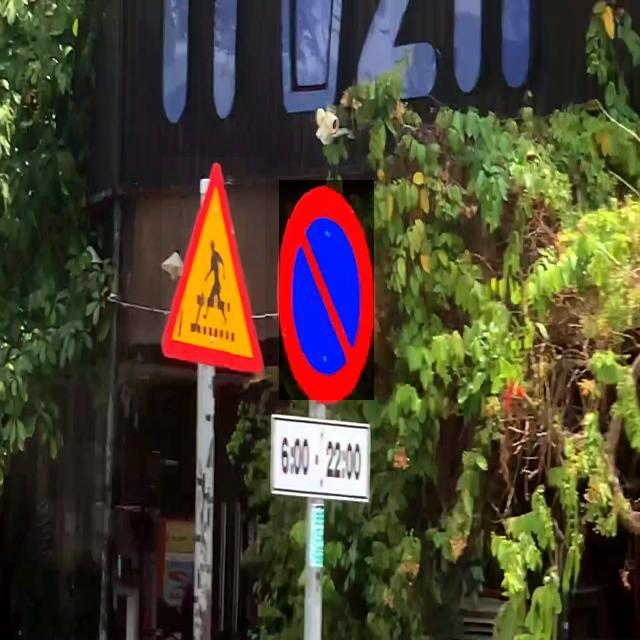P-131a: (279, 180, 374, 400)
W-224: (162, 157, 265, 375)
